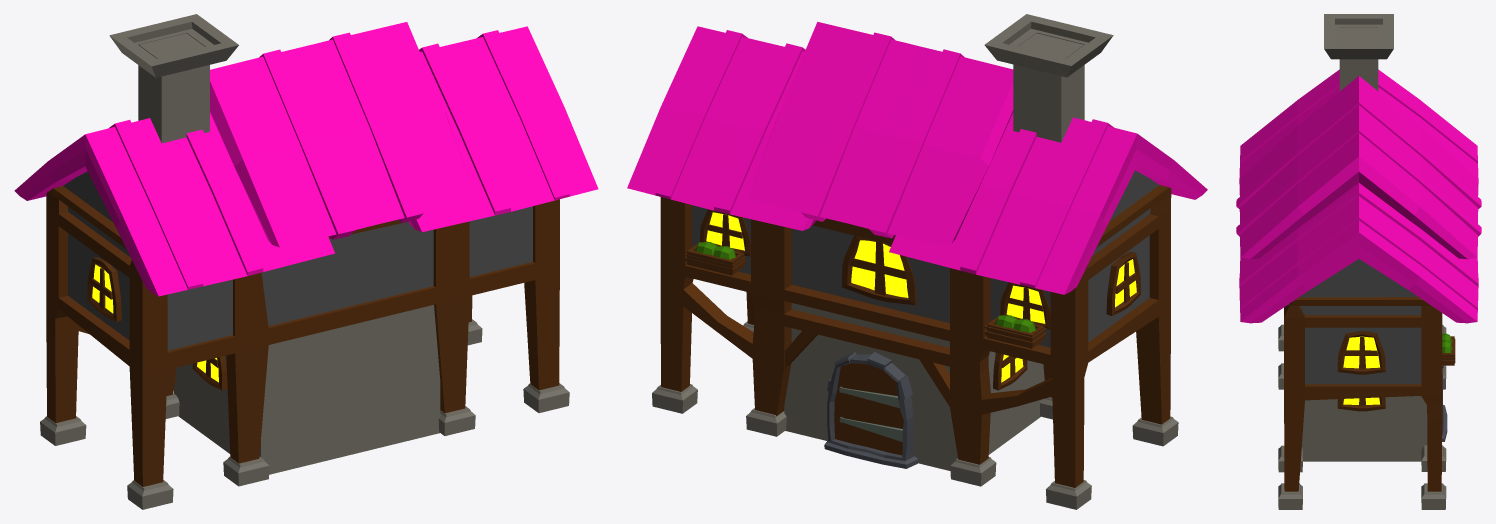
Rendered from CasaGrande_Vila.fbx.
The picture shows the model from 3 angles, left to right: view 1: azimuth 30°, elevation 25°; view 2: azimuth 150°, elevation 25°; view 3: azimuth 270°, elevation 25°; orthographic projection. The views are drawn at different scales.
Parts seen in each view (by area): view 1: Telhado, Pilar, Andar Inferior, Andar Superior, Chaminé, BasePilar, Janela; view 2: Telhado, Pilar, Andar Inferior, Andar Superior, Chaminé, Janela, BasePilar, Porta, VidrosJanela_CasaGrande, PortaAro, Vaso, PortaFerro (+1 smaller); view 3: Telhado, Pilar, Andar Superior, Andar Inferior, Chaminé, BasePilar, Janela, VidrosJanela_CasaGrande.
Boxes of the visible parts, x1,y1,x2,y2 form: Telhado: (14, 22, 598, 296); Pilar: (46, 186, 559, 486); Andar Inferior: (174, 305, 440, 474); Andar Superior: (63, 171, 532, 350); Chaminé: (109, 14, 238, 143); BasePilar: (40, 319, 569, 509); Janela: (87, 257, 227, 390); Telhado: (627, 21, 1207, 294); Pilar: (660, 185, 1171, 487); Andar Inferior: (784, 303, 1044, 470); Andar Superior: (692, 170, 1159, 347); Chaminé: (984, 14, 1113, 142); Janela: (700, 209, 1140, 390); BasePilar: (652, 321, 1178, 509); Porta: (834, 363, 903, 455); VidrosJanela_CasaGrande: (706, 212, 1136, 382); PortaAro: (824, 352, 917, 468); Vaso: (685, 242, 1046, 348); PortaFerro: (839, 386, 902, 441); Telhado: (1236, 69, 1481, 323); Pilar: (1284, 297, 1442, 491); Andar Superior: (1288, 259, 1421, 384); Andar Inferior: (1301, 396, 1427, 461); Chaminé: (1324, 14, 1393, 91); BasePilar: (1278, 324, 1446, 509); Janela: (1337, 331, 1385, 411); VidrosJanela_CasaGrande: (1343, 336, 1380, 404).
Size of the model in its own units: 1053 by 945 by 616.
